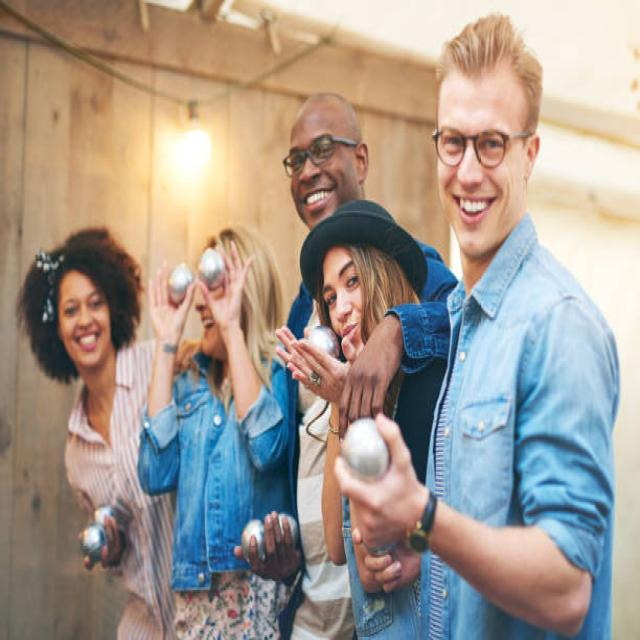petanque: (338, 415, 391, 479), (195, 245, 229, 290), (303, 326, 342, 357), (237, 519, 268, 557), (83, 524, 112, 562), (168, 266, 195, 303), (92, 500, 117, 528), (279, 512, 297, 544)
